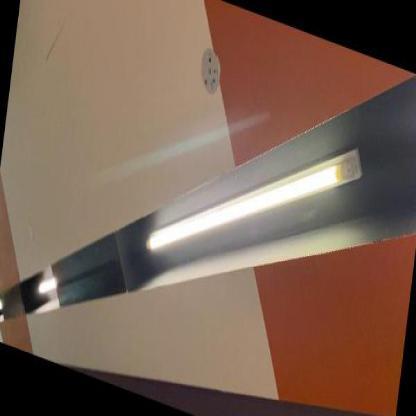light_on: (140, 62, 372, 336), (29, 249, 68, 330), (0, 284, 9, 337)
